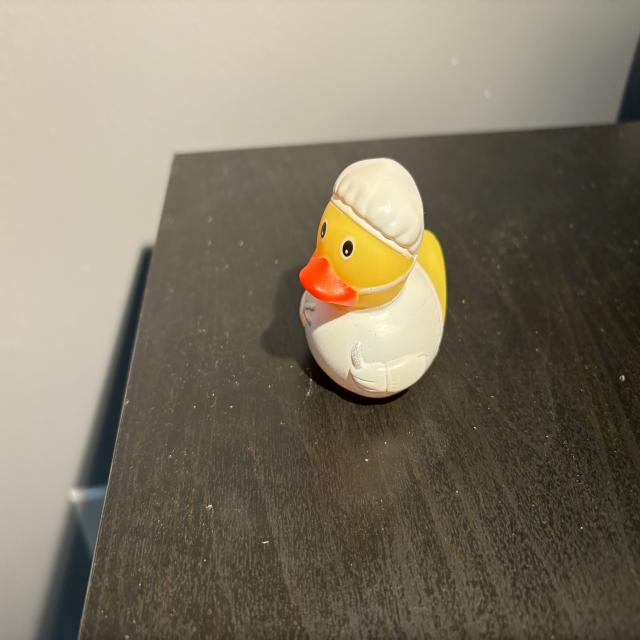duck_specialty: (300, 160, 447, 399)
